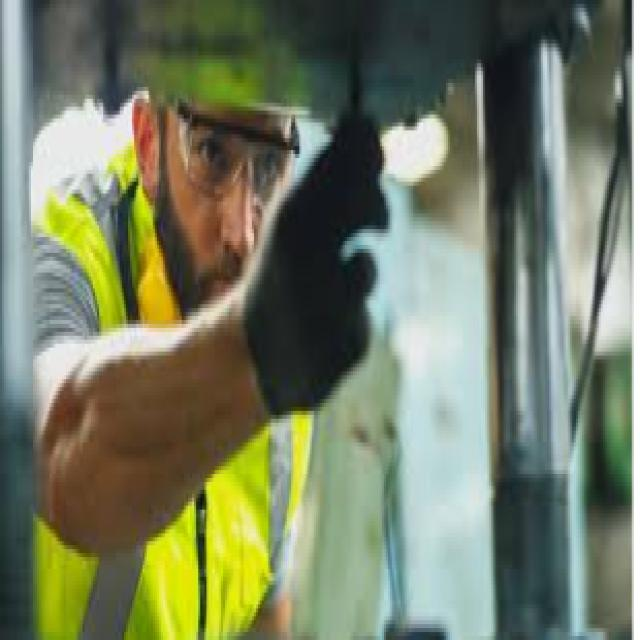glasses: (186, 94, 306, 196)
